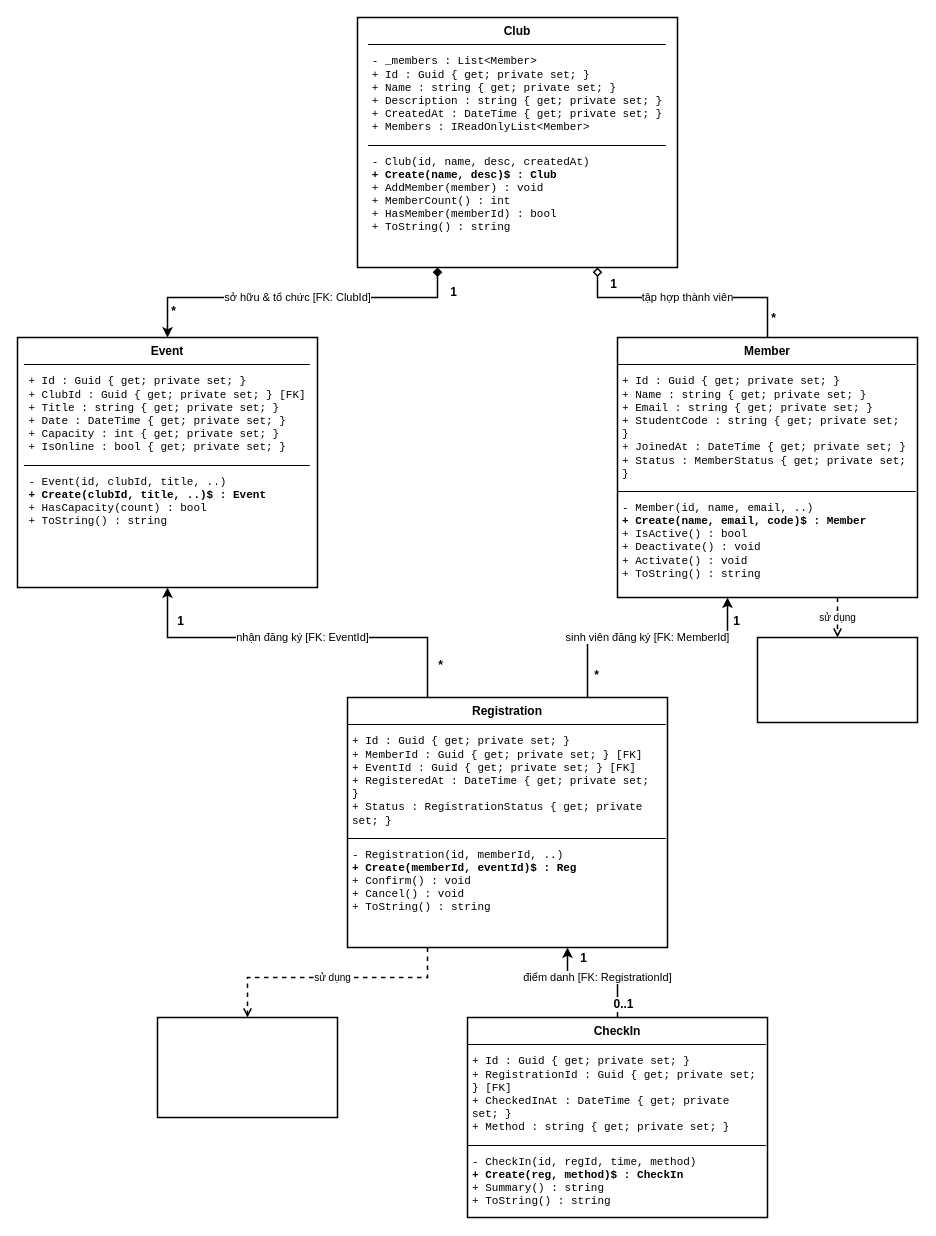
Some shapes in this 936 by 1236 pixel diagram are drawn without their labels. Each missing label, with the centre of its shape:
<<enumeration>> MemberStatus + Active = 1 + Inactive = 2: the point at 837,679
<<enumeration>> RegistrationStatus + Pending = 1 + Confirmed = 2 + Cancelled = 3: the point at 247,1067
